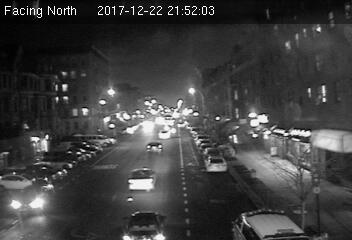car: (127, 166, 158, 193), (202, 155, 227, 173), (145, 141, 165, 154), (158, 129, 170, 139)
police: (230, 206, 310, 240)
